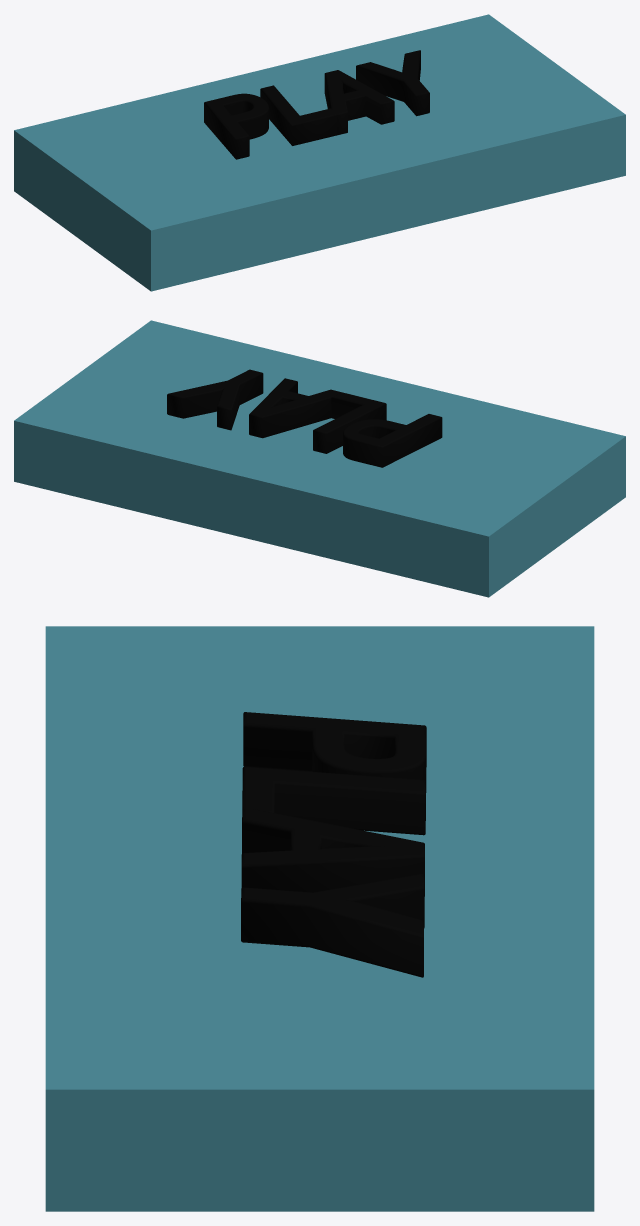
File: play_button .fbx
The picture shows the model from 3 angles, top to bottom: view 1: azimuth 30°, elevation 25°; view 2: azimuth 150°, elevation 25°; view 3: azimuth 270°, elevation 25°; orthographic projection. The views are drawn at different scales.
Parts seen in each view (by area): view 1: Play; view 2: Play; view 3: Play.
Boxes of the visible parts, x1,y1,x2,y2 form: Play: [14, 14, 625, 291]; Play: [14, 320, 625, 597]; Play: [45, 626, 594, 1211].
Bounding box in the file's own units: 340 × 57.63 × 170.
